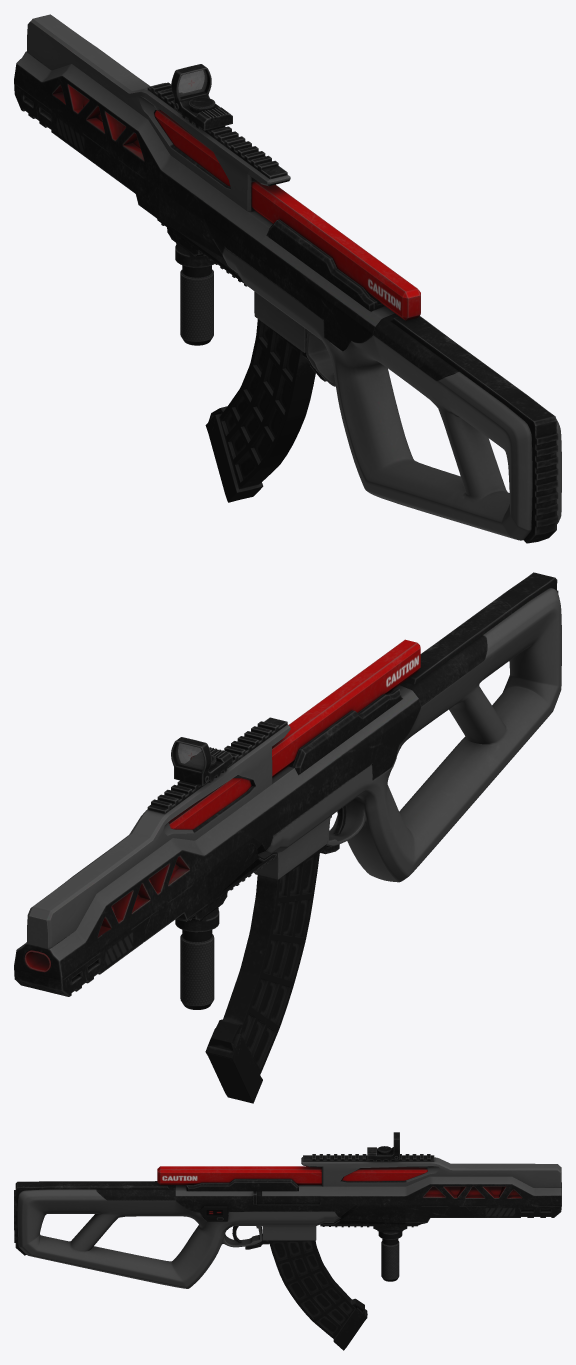
Rendered from wpn_project_rifle_afr120.glb.
3 views of the same model, one above another, from view 1: azimuth 30°, elevation 25°; view 2: azimuth 150°, elevation 25°; view 3: azimuth 270°, elevation 25° (orthographic). The views are drawn at different scales.
Visible parts, largest first — view 1: wpn_project_rifle_afr120_lod0; view 2: wpn_project_rifle_afr120_lod0; view 3: wpn_project_rifle_afr120_lod0.
Part boxes in pixels (box(x1,y1,x2,y2)): wpn_project_rifle_afr120_lod0: box(14, 14, 561, 543); wpn_project_rifle_afr120_lod0: box(14, 572, 561, 1103); wpn_project_rifle_afr120_lod0: box(14, 1132, 561, 1350).
Bounding box in the file's own units: 0.0739 × 0.5001 × 1.17.
1 material, 1 textured.
